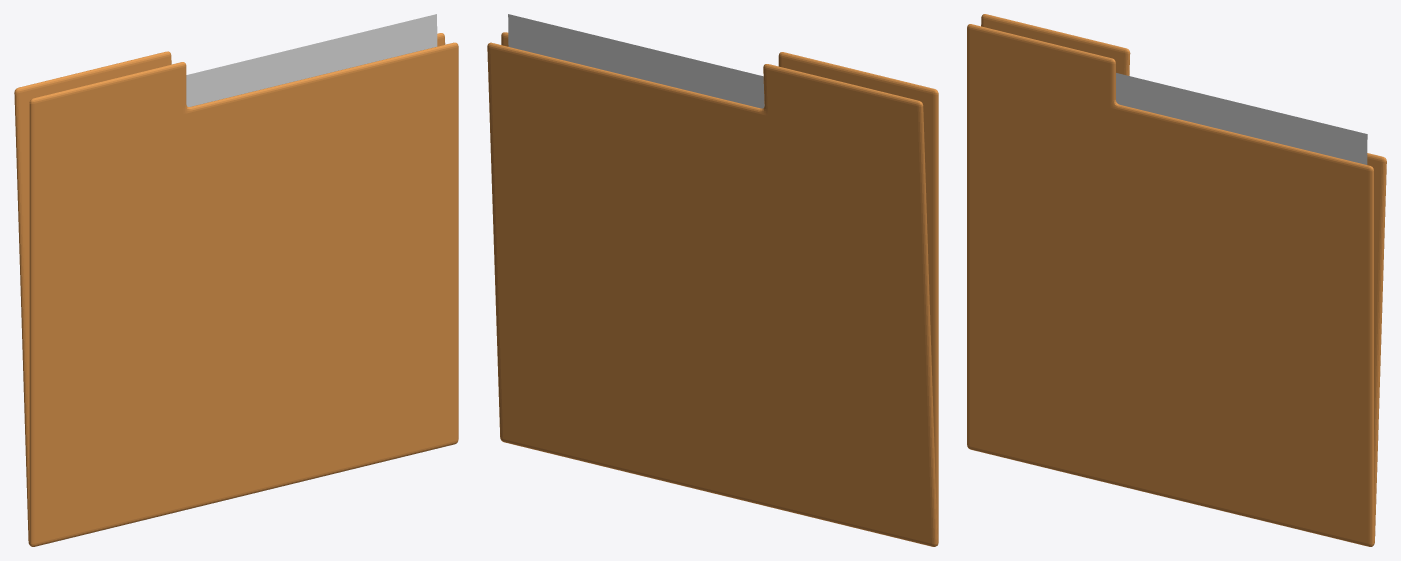
Rendered from Folder.glb.
The picture shows the model from 3 angles, left to right: view 1: azimuth 30°, elevation 25°; view 2: azimuth 150°, elevation 25°; view 3: azimuth 330°, elevation 25°; orthographic projection. The views are drawn at different scales.
Visible parts, largest first — view 1: Plane; view 2: Plane; view 3: Plane.
Part boxes in pixels (x1,y1,x2,y2): Plane: (14, 14, 458, 546); Plane: (487, 14, 938, 546); Plane: (967, 14, 1386, 546).
Size of the model in its own units: 0.5779 by 0.5779 by 0.0413.
